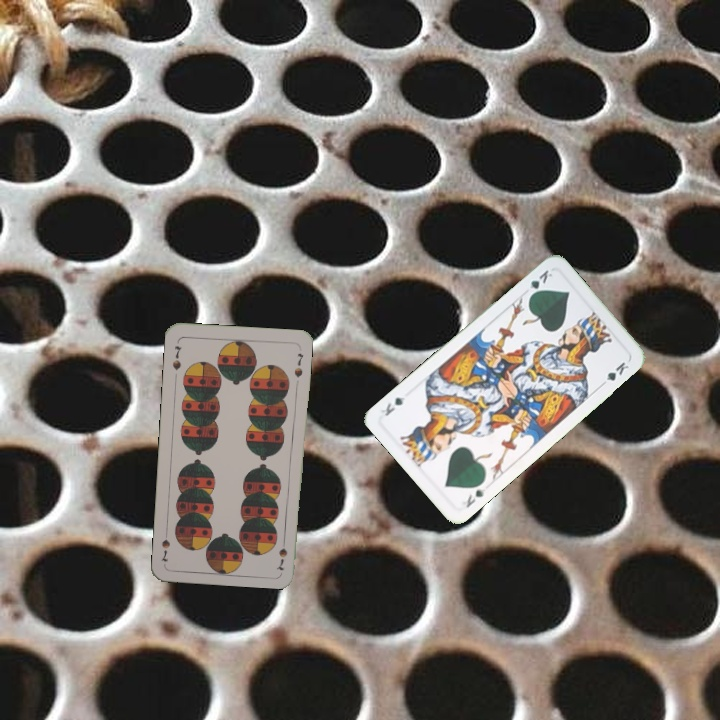GK: (525, 265, 555, 300), (458, 484, 488, 510)
S7: (275, 532, 290, 573), (169, 342, 184, 372)
